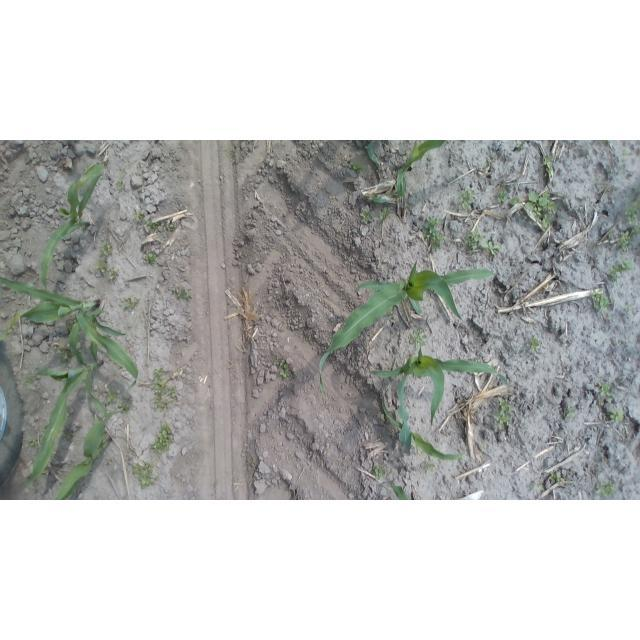Maize: (317, 260, 496, 400), (0, 273, 140, 390), (21, 312, 111, 493), (370, 346, 511, 457), (40, 161, 108, 292), (49, 409, 124, 500), (379, 392, 468, 462), (368, 140, 448, 204), (390, 483, 413, 500)
Weeds: (524, 191, 557, 231), (151, 367, 180, 412), (464, 232, 502, 259), (605, 226, 640, 254), (423, 215, 446, 252), (150, 422, 175, 455), (492, 396, 517, 429), (131, 462, 157, 490), (454, 187, 479, 213), (607, 258, 633, 282), (589, 290, 612, 314), (592, 479, 619, 497), (596, 381, 614, 407), (541, 154, 557, 182), (409, 326, 430, 347), (273, 359, 293, 380), (623, 201, 640, 225), (169, 285, 192, 301), (526, 335, 544, 354), (59, 345, 76, 365), (371, 464, 389, 482), (607, 408, 626, 424), (548, 472, 569, 486), (121, 297, 142, 310), (99, 239, 114, 257), (104, 389, 119, 405), (379, 205, 394, 221), (24, 373, 41, 386), (143, 252, 160, 265), (496, 189, 509, 206), (561, 408, 578, 421), (358, 209, 372, 224), (64, 320, 78, 334), (118, 401, 133, 414), (96, 260, 107, 276), (144, 220, 157, 233), (351, 162, 365, 174), (108, 269, 120, 282), (510, 196, 522, 209), (224, 147, 237, 158), (424, 461, 437, 472), (116, 180, 127, 191), (27, 436, 38, 447), (534, 484, 546, 493), (134, 211, 143, 222), (478, 443, 487, 454), (162, 224, 175, 231), (328, 195, 336, 206), (118, 167, 127, 174), (34, 158, 42, 164), (52, 162, 60, 167)
